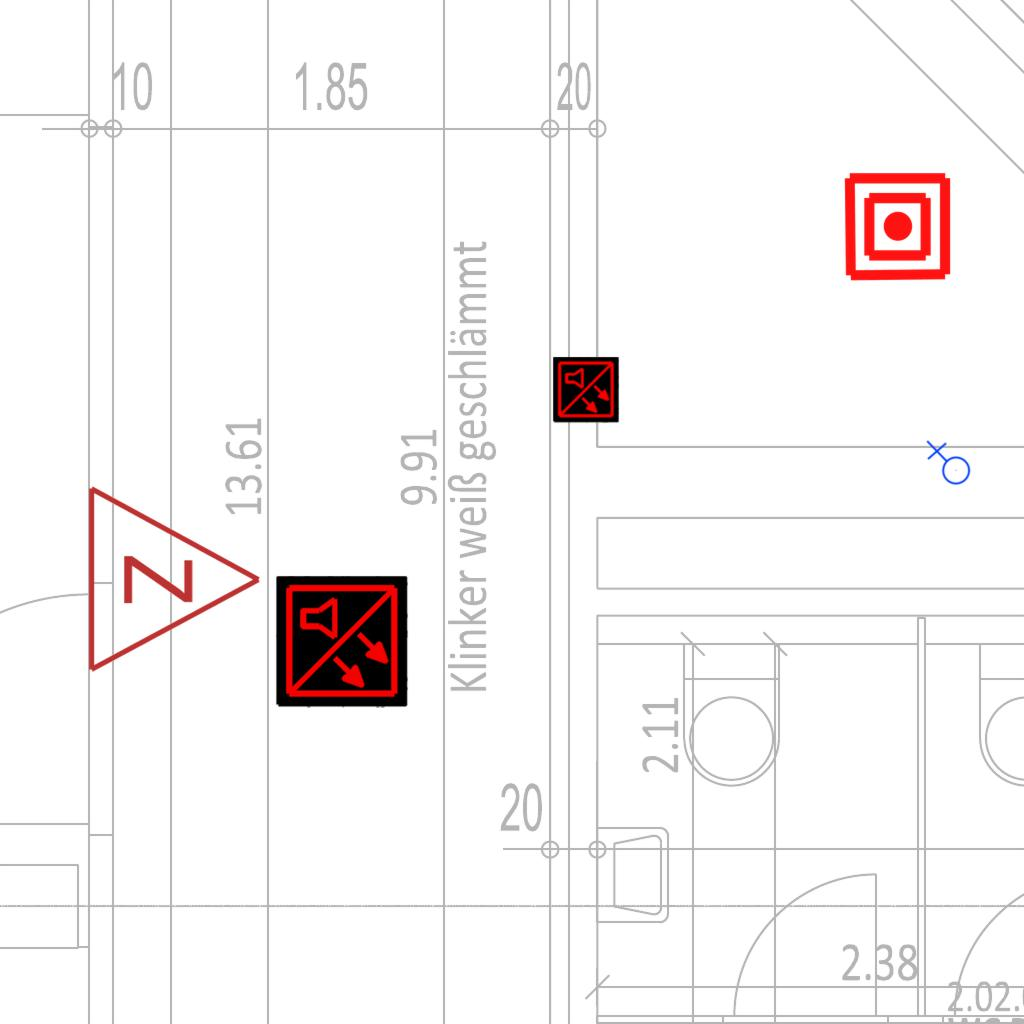Elektroanschluss_allgemein_230V_Geraeteanschlussdose_230V: (924, 440, 971, 489)
NAM-Nichtautomatischer_Melder: (841, 170, 954, 283)
OKW_Multisensormelder_(Kombination_optischer_Rauch-Kahlenmonoxid_Waerme-Melder): (276, 576, 408, 708), (553, 357, 619, 423)
Zimmersignalleuchte: (74, 479, 274, 675)
